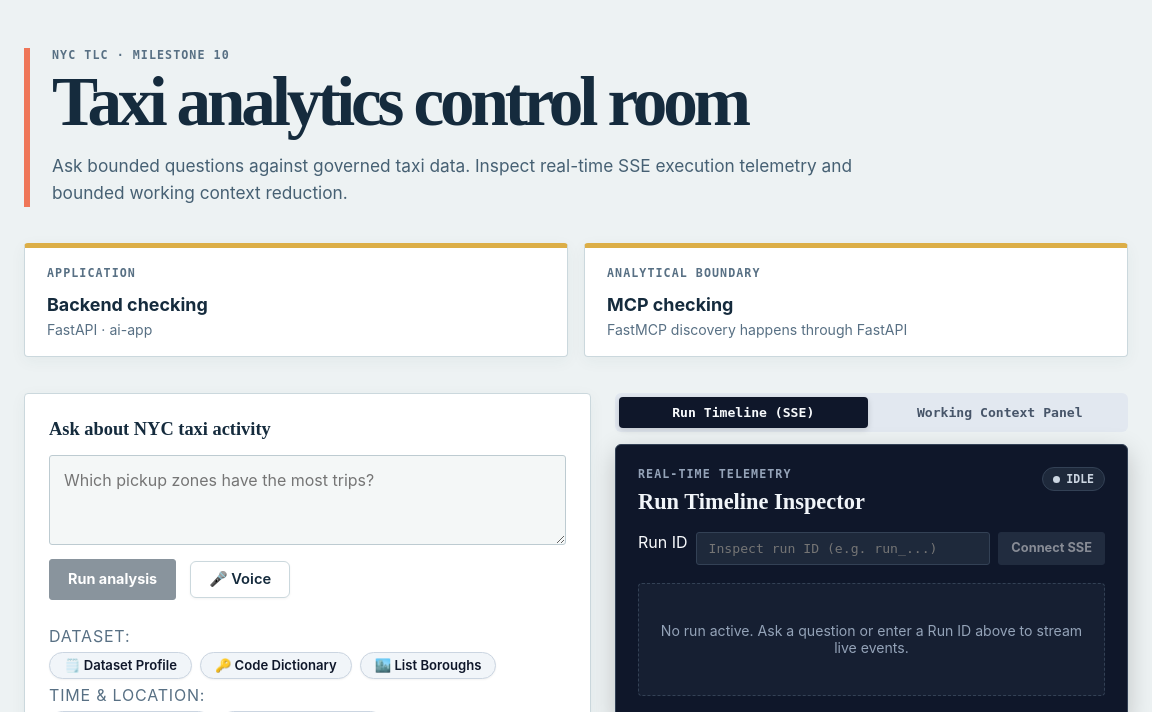
App › switches to the Context tab and displays the context inspector
This screenshot has width=1152, height=712.
Step 1. Click the tab "Working Context Panel" → (1000, 412), box [876,397,1124,428]
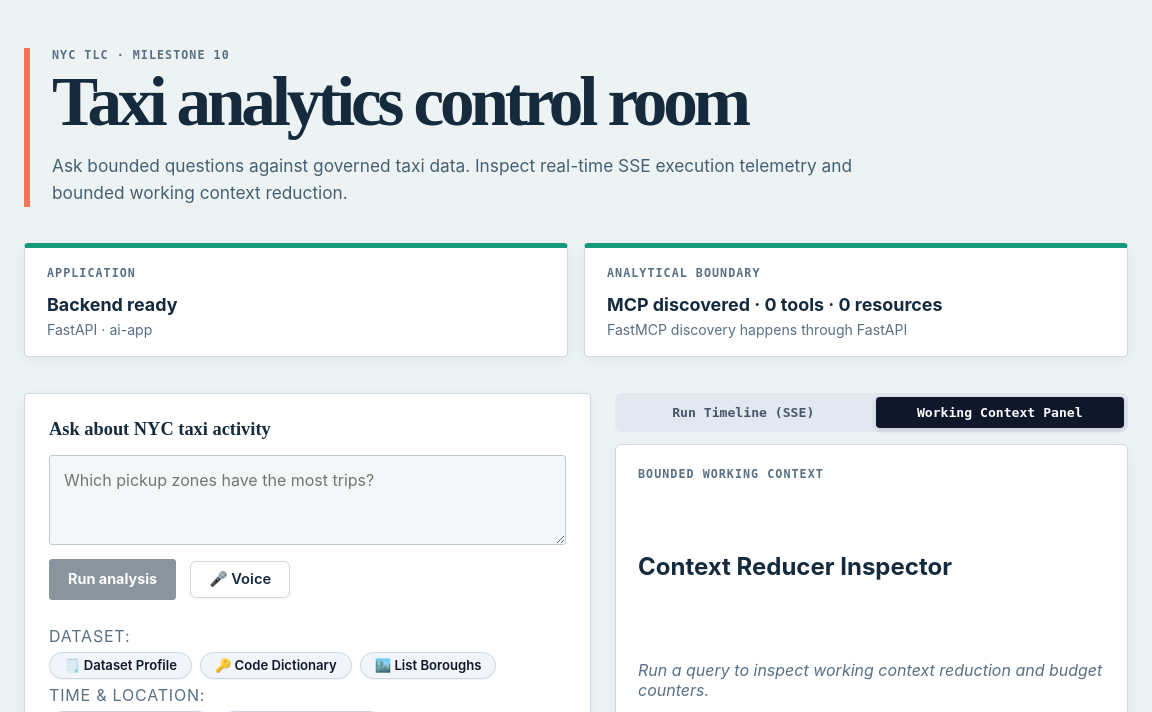
Expected: the heading "Context Reducer Inspector" is shown, [638,552,952,580]
